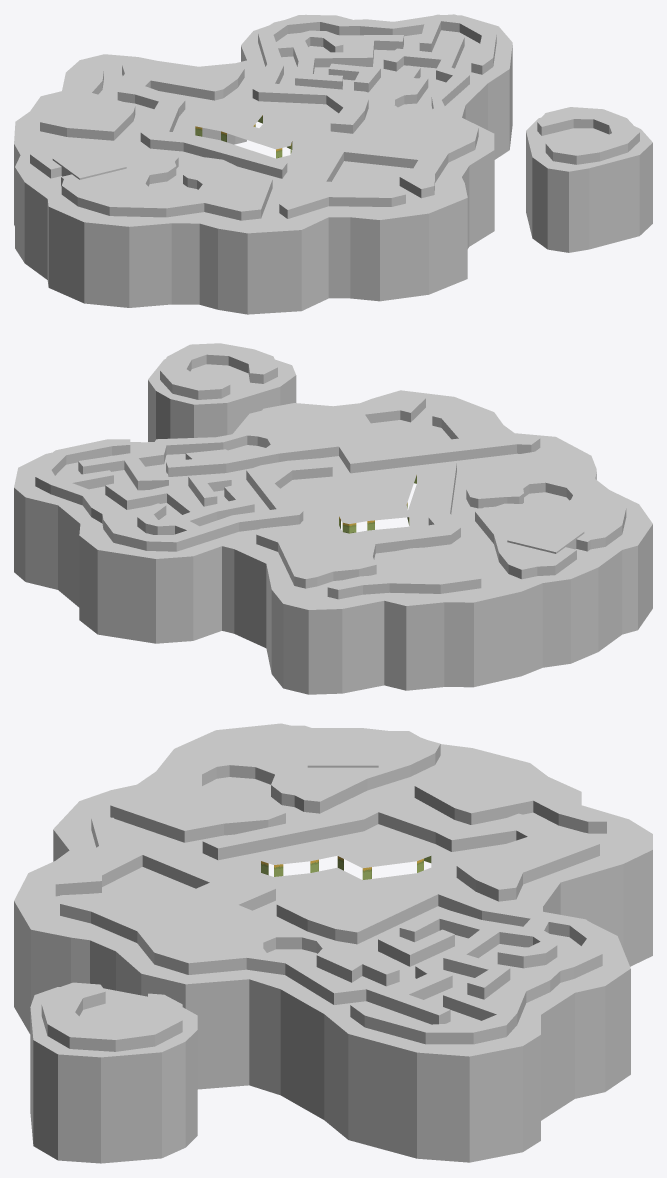
Rendered from maize domain.gltf.
3 renders of one model, top to bottom at view 1: azimuth 30°, elevation 25°; view 2: azimuth 150°, elevation 25°; view 3: azimuth 270°, elevation 25°, orthographic. The views are drawn at different scales.
Visible parts, largest first — view 1: _(Loose_Entity), corn_top; view 2: _(Loose_Entity), corn_top; view 3: _(Loose_Entity), corn_top, corn_side.
Boxes of the visible parts, bbox=[...] form: _(Loose_Entity): bbox=[14, 14, 652, 314]; corn_top: bbox=[196, 100, 291, 149]; _(Loose_Entity): bbox=[14, 343, 652, 694]; corn_top: bbox=[339, 470, 416, 523]; _(Loose_Entity): bbox=[14, 723, 652, 1163]; corn_top: bbox=[261, 828, 431, 868]; corn_side: bbox=[261, 856, 431, 879].
Size of the model in its own units: 143 by 24 by 116.
2 materials, 1 textured.
